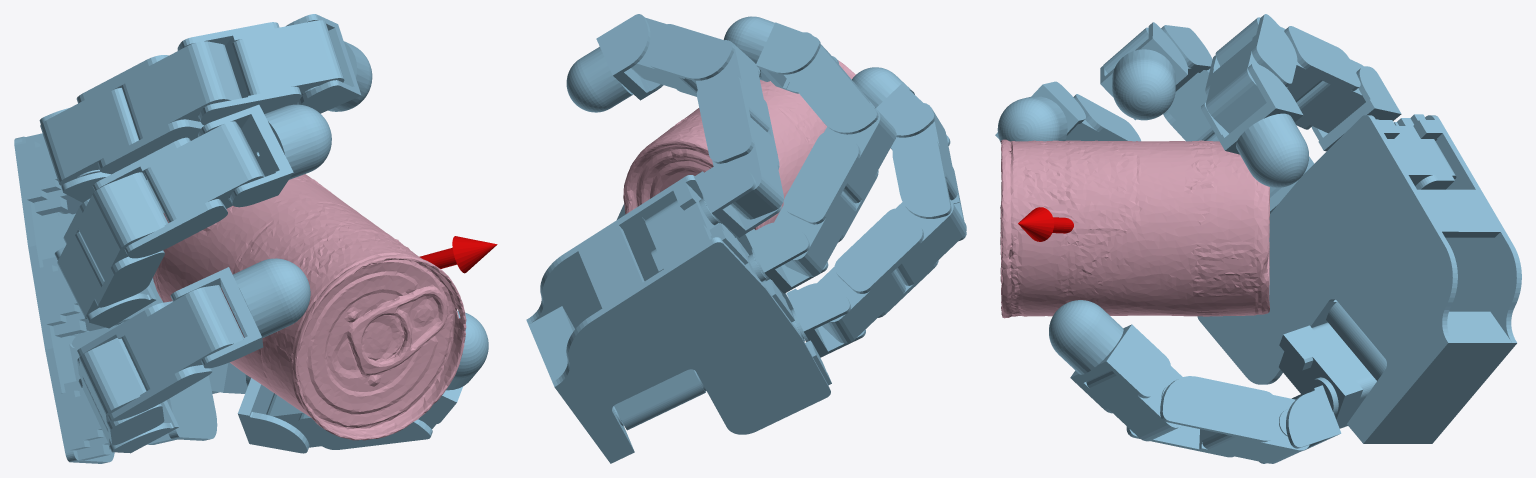
3 views of the same model, side by side, from view 1: azimuth 30°, elevation 25°; view 2: azimuth 150°, elevation 25°; view 3: azimuth 270°, elevation 25° (orthographic). The views are drawn at different scales.
Visible parts, largest first — view 1: world, tomato_soup_can.stl; view 2: world, tomato_soup_can.stl; view 3: world, tomato_soup_can.stl.
Boxes of the visible parts, x1,y1,x2,y2 form: world: (14, 14, 497, 463); tomato_soup_can.stl: (153, 174, 466, 440); world: (526, 14, 966, 463); tomato_soup_can.stl: (623, 60, 855, 230); world: (995, 14, 1521, 463); tomato_soup_can.stl: (1000, 139, 1269, 318).
Size of the model in its own units: 0.1571 by 0.17 by 0.1989.
